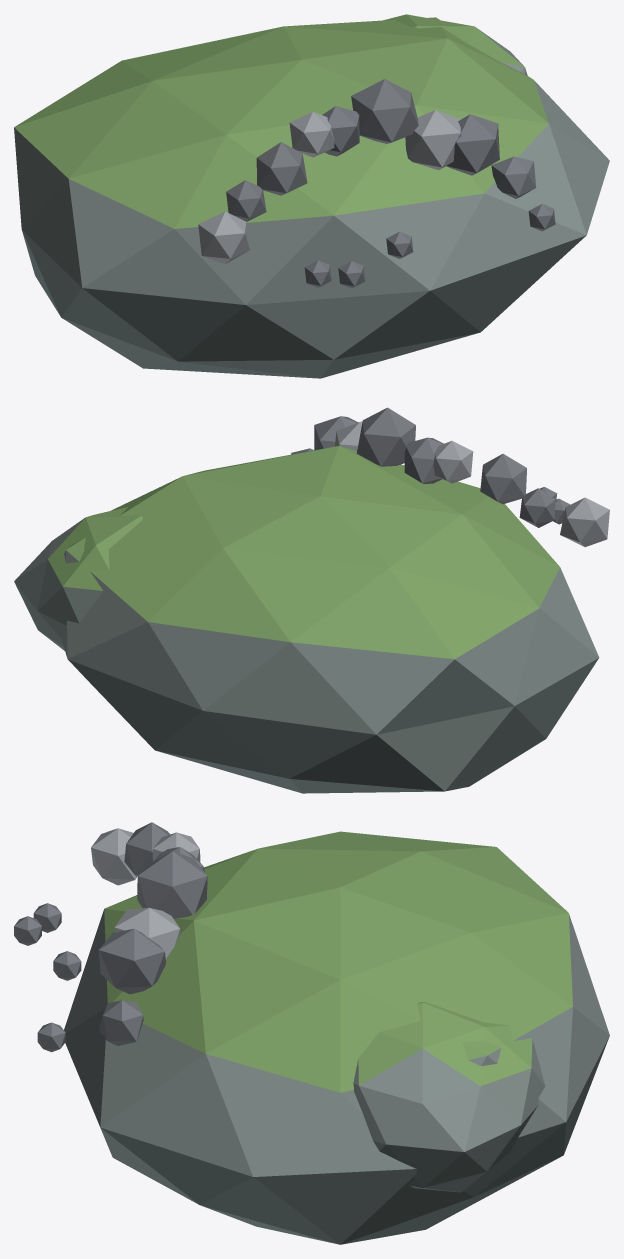
The model's file is vein_hill_iron.glb.
3 views of the same model, one above another, from view 1: azimuth 30°, elevation 25°; view 2: azimuth 150°, elevation 25°; view 3: azimuth 270°, elevation 25° (orthographic). The views are drawn at different scales.
Parts seen in each view (by area): view 1: body; view 2: body; view 3: body.
Boxes of the visible parts, <box> form: body: <box>14,14,609,378</box>; body: <box>14,407,609,793</box>; body: <box>14,822,609,1244</box>.
Size of the model in its own units: 4.79 by 2.81 by 4.34.
